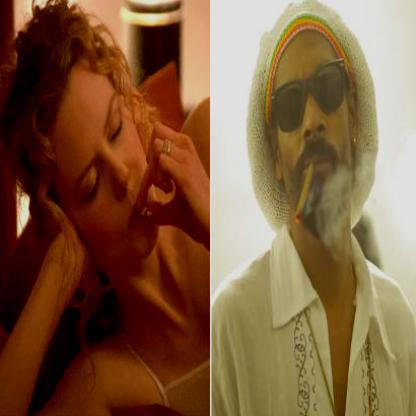cigarette: (293, 164, 316, 226), (139, 205, 154, 221)
person: (0, 3, 213, 415), (240, 19, 376, 415)
